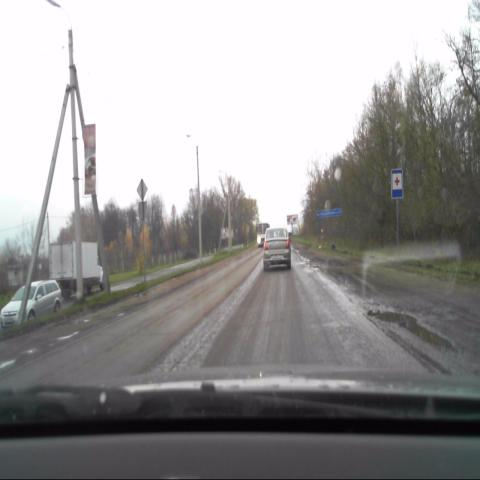7_1: (391, 169, 404, 201)
